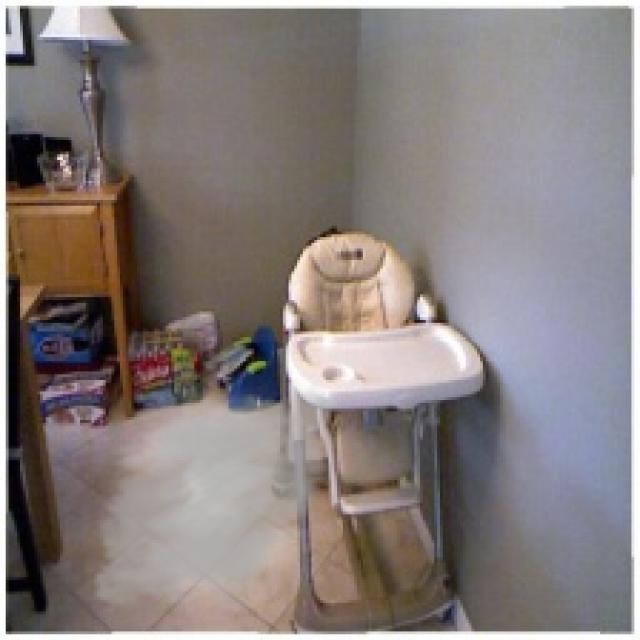smoke: (83, 372, 343, 632)
